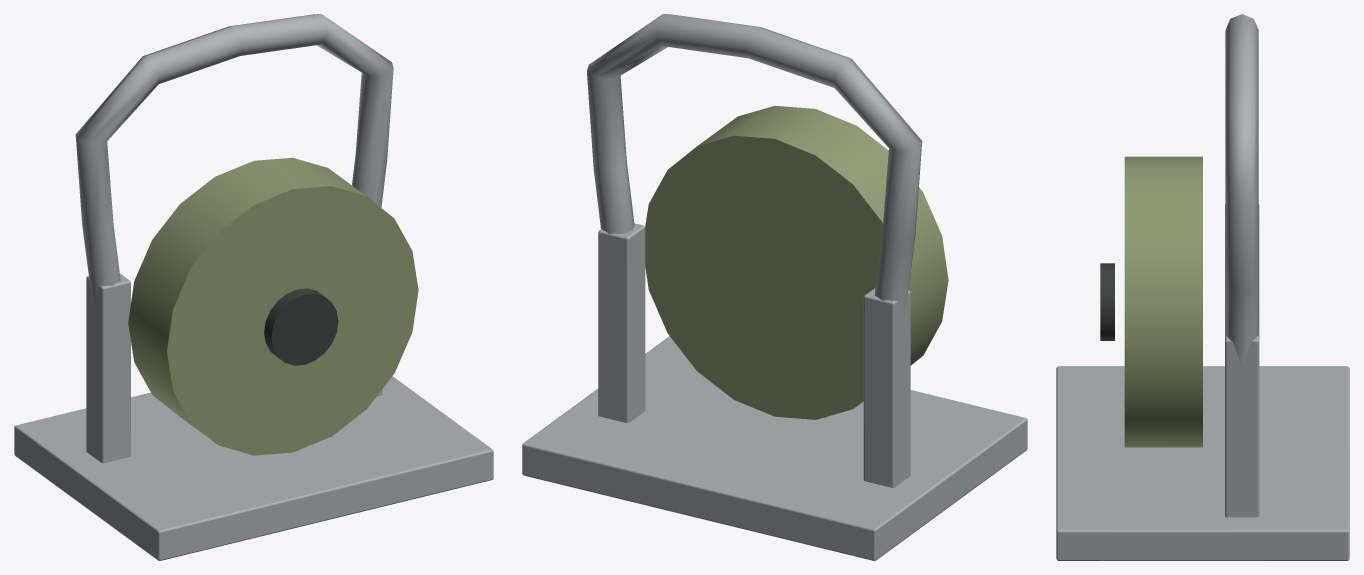
The model's file is off-grid-power-and-controls-extension-reel-2f19e3ec__2995.glb.
3 renders of one model, left to right at view 1: azimuth 30°, elevation 25°; view 2: azimuth 150°, elevation 25°; view 3: azimuth 270°, elevation 25°, orthographic. The views are drawn at different scales.
Visible parts, largest first — view 1: extension-reel; view 2: extension-reel; view 3: extension-reel.
Boxes of the visible parts, x1=… form: extension-reel: x1=14, y1=14, x2=493, y2=560; extension-reel: x1=522, y1=14, x2=1027, y2=560; extension-reel: x1=1056, y1=14, x2=1349, y2=560.
Bounding box in the file's own units: 0.4 × 0.487 × 0.3.
